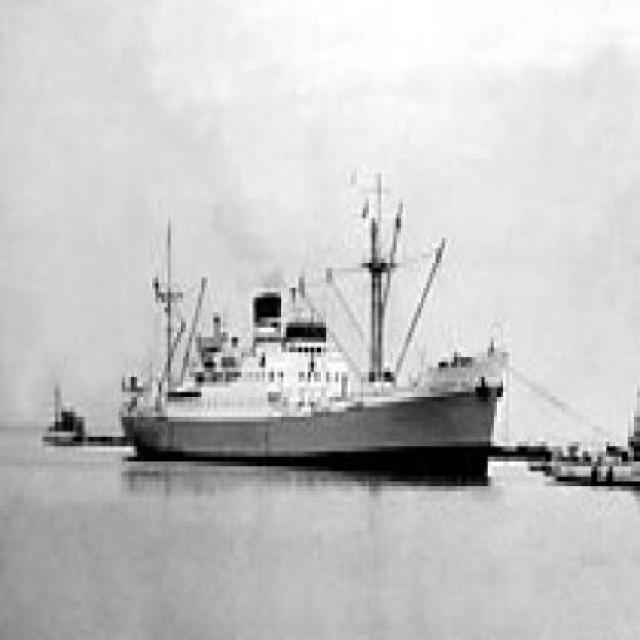container: (117, 155, 520, 507)
